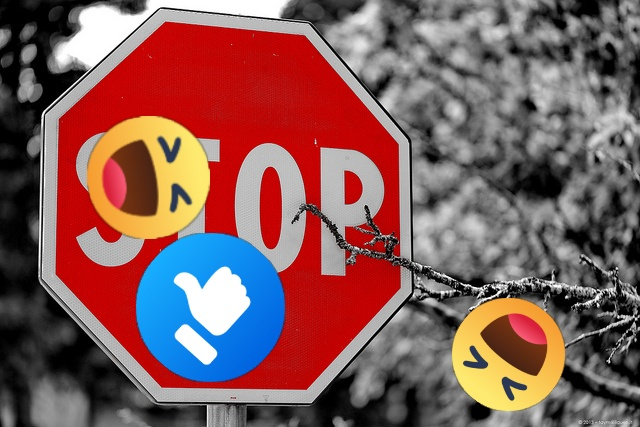haha: (87, 116, 210, 239), (452, 298, 565, 411)
like: (136, 233, 285, 382)
